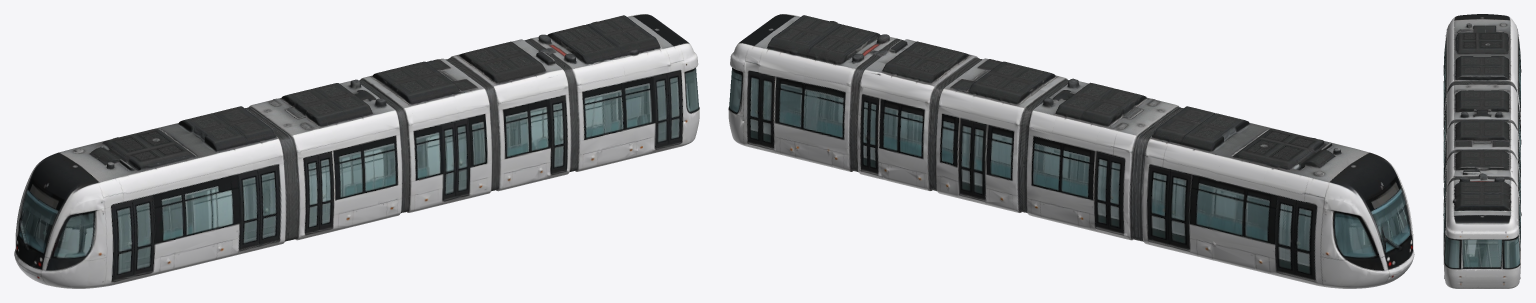
File: tram.glb
3 renders of one model, left to right at view 1: azimuth 30°, elevation 25°; view 2: azimuth 150°, elevation 25°; view 3: azimuth 270°, elevation 25°, orthographic. The views are drawn at different scales.
Visible parts, largest first — view 1: mesh_node; view 2: mesh_node; view 3: mesh_node.
Part boxes in pixels (left/top/right/bottom): mesh_node: left=14, top=14, right=699, bottom=288; mesh_node: left=728, top=14, right=1414, bottom=288; mesh_node: left=1443, top=14, right=1521, bottom=288.
Size of the model in its own units: 1.9 by 0.3021 by 0.2859.
1 material, 1 textured.
